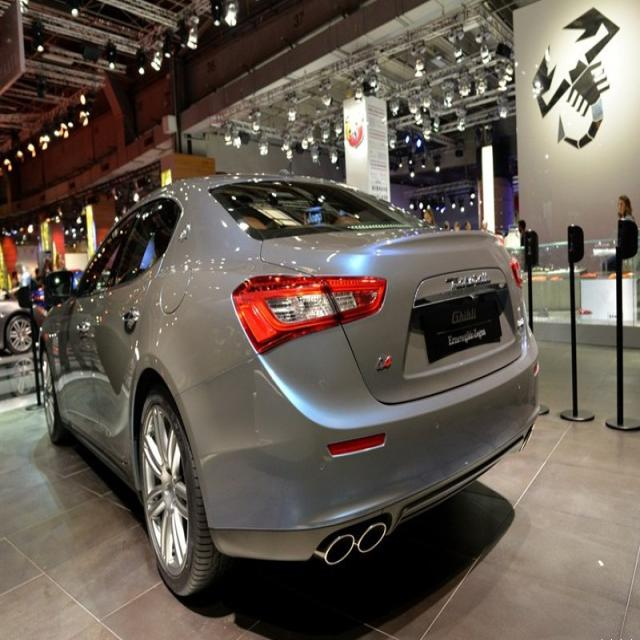back_glass: (206, 175, 434, 243)
back_left_side_light: (232, 268, 390, 358)
back_right_side_light: (508, 252, 522, 291)
front_left_side_door: (64, 202, 142, 457)
front_left_side_mirror: (46, 269, 75, 298)
rear_bumper: (173, 311, 541, 564)
wheel: (138, 390, 248, 600), (41, 354, 73, 444)
